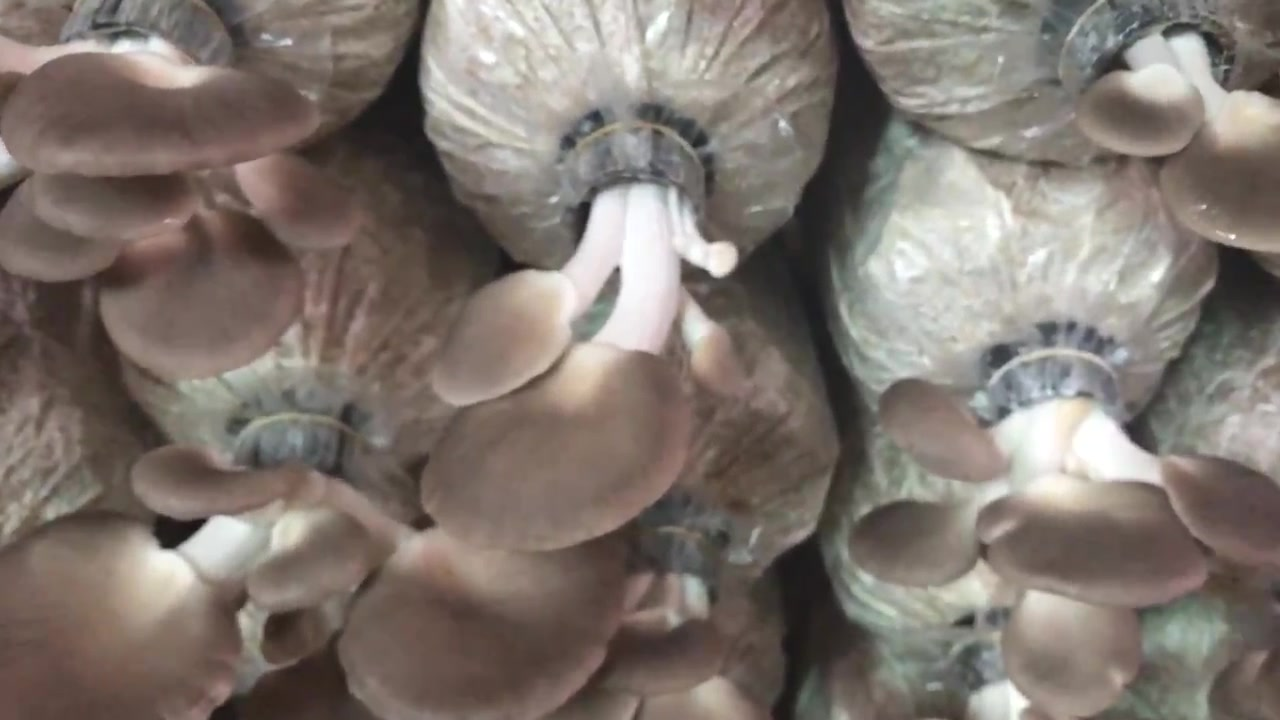nam: (1, 402, 627, 720), (420, 107, 755, 557), (1, 2, 364, 384), (848, 327, 1280, 605), (1052, 1, 1278, 259), (549, 496, 768, 720)
